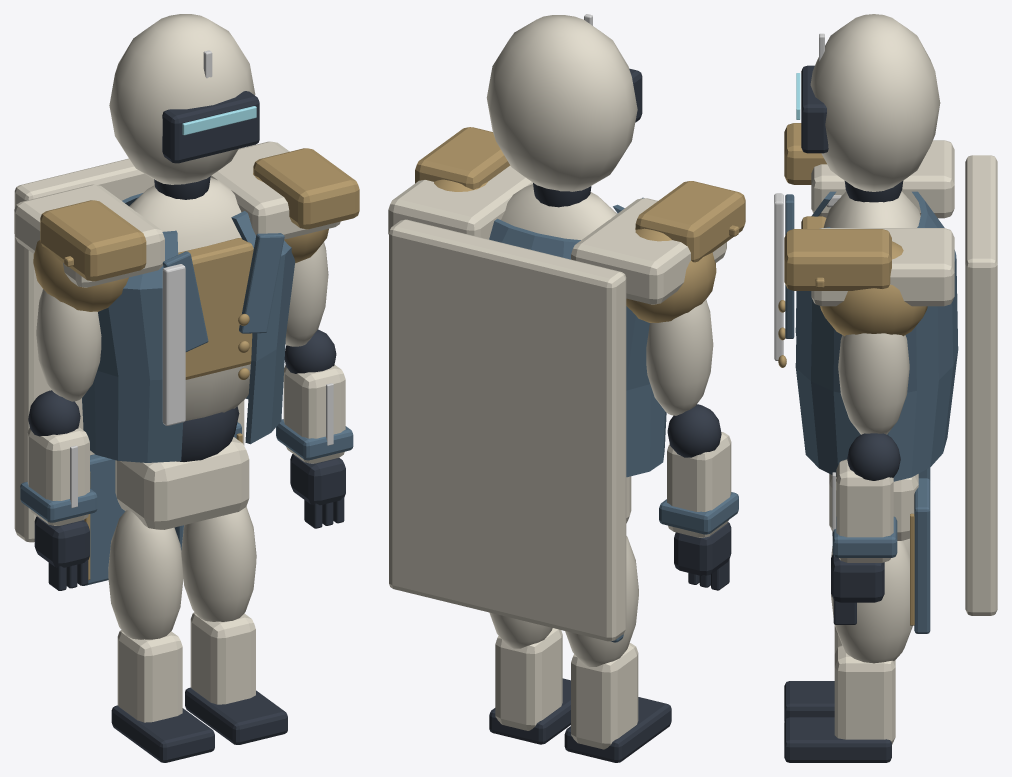
Rendered from henry.glb.
The picture shows the model from 3 angles, left to right: view 1: azimuth 30°, elevation 25°; view 2: azimuth 150°, elevation 25°; view 3: azimuth 270°, elevation 25°; orthographic projection. The views are drawn at different scales.
Visible parts, largest first — view 1: Ambassador frock, Helmet, Diplomat long mantle, Pelvis, Thigh R, Articulated thorax, Thigh L, Sternum shield, Mantle broad clasp, Mantle broad clasp.001, Upper arm R, Shin R (+24 smaller); view 2: Diplomat long mantle, Helmet, Ceremonial layered mantle, Ambassador frock, Upper arm R, Shin R, Shin L, Ceremonial layered mantle.001, Mantle broad clasp, Bracer R, Mantle broad clasp.001, Articulated thorax (+9 smaller); view 3: Helmet, Ambassador frock, Diplomat long mantle, Mantle broad clasp.001, Upper arm L, Ceremonial layered mantle.001, Shin L, Thigh L, Bracer L, Ceremonial layered mantle, Shoulder L, Foot L (+14 smaller).
Part boxes in pixels (x1,y1,x2,y2): Ambassador frock: (82, 193, 295, 462); Helmet: (109, 14, 255, 184); Diplomat long mantle: (14, 147, 244, 542); Pelvis: (115, 437, 249, 529); Thigh R: (108, 510, 183, 639); Articulated thorax: (129, 177, 250, 420); Thigh L: (181, 506, 256, 621); Sternum shield: (178, 238, 253, 379); Mantle broad clasp: (40, 200, 146, 281); Mantle broad clasp.001: (253, 148, 359, 229); Upper arm R: (36, 289, 101, 401); Shin R: (117, 630, 182, 722); Diplomat long mantle: (389, 219, 626, 641); Helmet: (486, 15, 637, 191); Ceremonial layered mantle: (571, 198, 726, 304); Ambassador frock: (489, 204, 666, 477); Upper arm R: (646, 299, 713, 415); Shin R: (571, 643, 638, 749); Shin L: (495, 628, 562, 730); Ceremonial layered mantle.001: (388, 165, 532, 239); Mantle broad clasp: (635, 181, 745, 262); Bracer R: (667, 432, 731, 537); Mantle broad clasp.001: (415, 127, 510, 189); Articulated thorax: (501, 184, 616, 239); Helmet: (810, 14, 940, 191); Ambassador frock: (795, 191, 958, 481); Diplomat long mantle: (965, 155, 997, 615); Mantle broad clasp.001: (784, 229, 891, 290); Upper arm L: (838, 333, 909, 434); Ceremonial layered mantle.001: (811, 228, 954, 306); Shin L: (834, 645, 895, 744); Thigh L: (831, 540, 912, 663); Bracer L: (836, 459, 893, 562); Ceremonial layered mantle: (811, 140, 954, 218); Shoulder L: (820, 241, 927, 336); Foot L: (784, 717, 891, 762).
Bounding box in the file's own units: 1 × 2.2 × 0.623.
